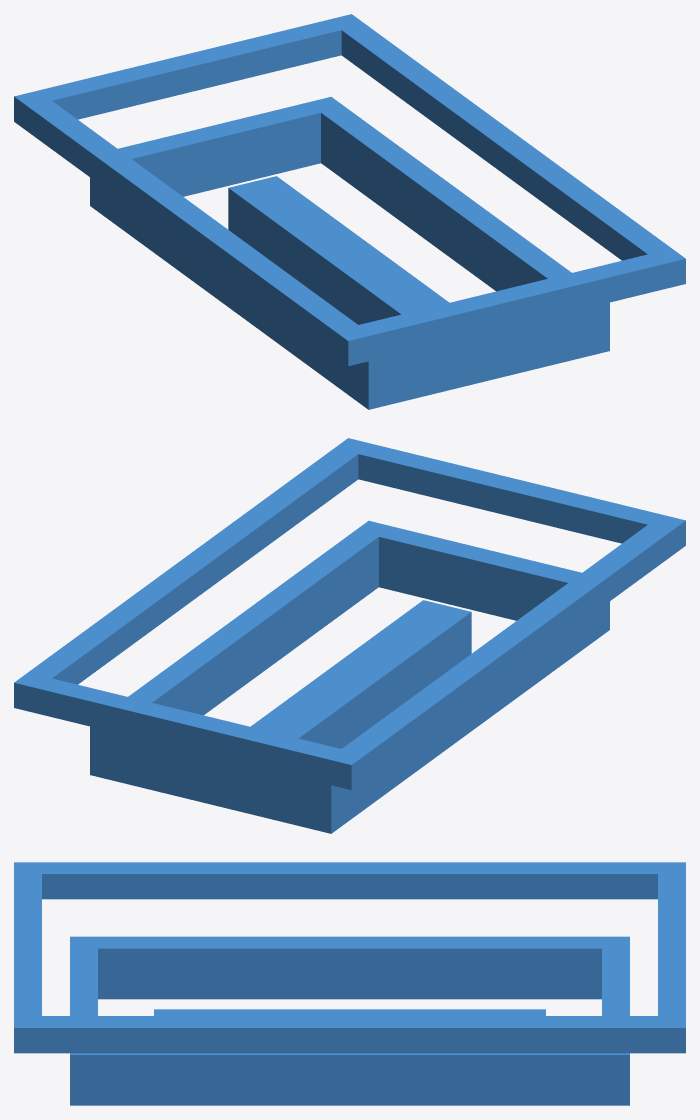
File: Smol-Platform-1.obj
3 views of the same model, one above another, from view 1: azimuth 30°, elevation 25°; view 2: azimuth 150°, elevation 25°; view 3: azimuth 270°, elevation 25° (orthographic).
Size of the model in its own units: 1.4 by 0.5 by 2.4.
Materials: 1 (1 with a texture image).
